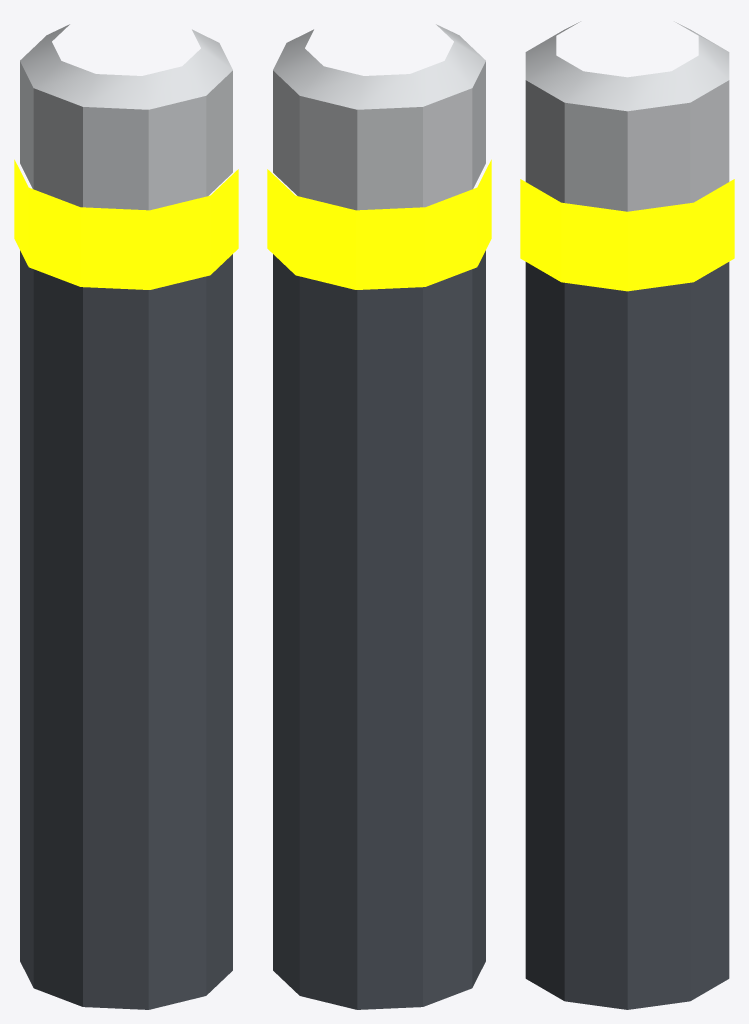
File: ext_bollard_01.glb
3 views of the same model, side by side, from view 1: azimuth 30°, elevation 25°; view 2: azimuth 150°, elevation 25°; view 3: azimuth 270°, elevation 25° (orthographic).
Visible parts, largest first — view 1: Post, Cap, Amber_Band; view 2: Post, Cap, Amber_Band; view 3: Post, Cap, Amber_Band.
Boxes of the visible parts, box(x1,y1,x2,y2) form: Post: box(20, 250, 232, 1009); Cap: box(20, 24, 232, 210); Amber_Band: box(14, 159, 238, 289); Post: box(273, 250, 485, 1009); Cap: box(273, 24, 485, 210); Amber_Band: box(267, 159, 491, 289); Post: box(525, 262, 729, 1009); Cap: box(525, 21, 729, 211); Amber_Band: box(520, 179, 734, 291).
Bounding box in the file's own units: 0.2 × 0.9 × 0.1902.
